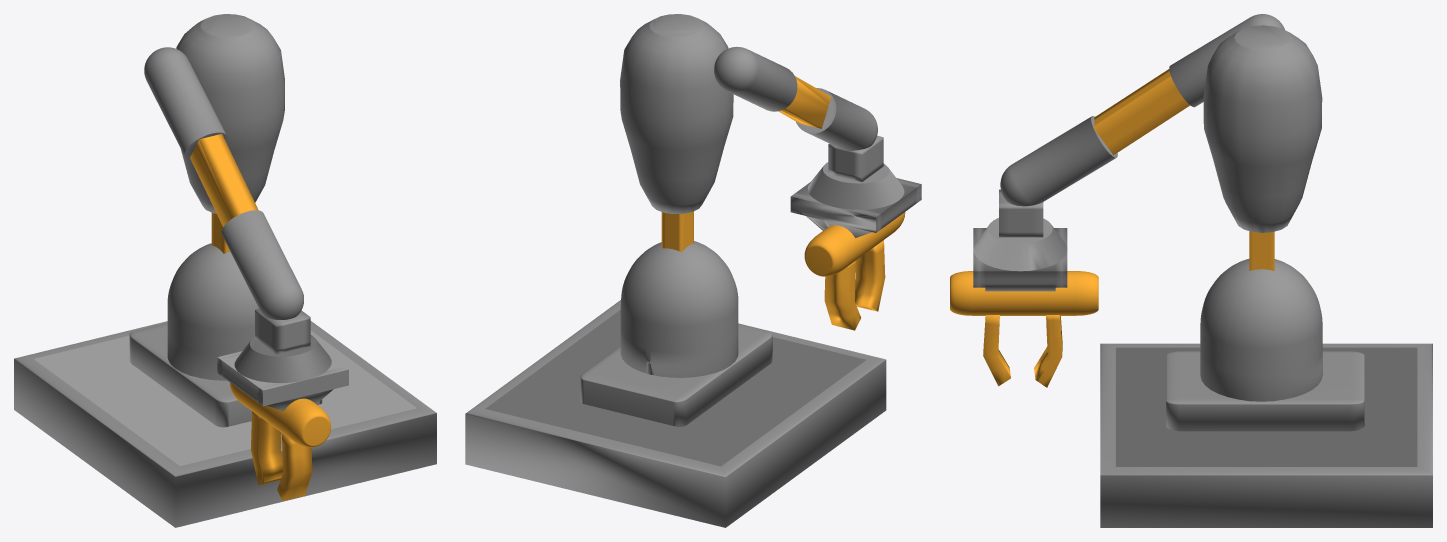
The model's file is CRANEMACHINE.fbx.
The picture shows the model from 3 angles, left to right: view 1: azimuth 30°, elevation 25°; view 2: azimuth 150°, elevation 25°; view 3: azimuth 270°, elevation 25°; orthographic projection. The views are drawn at different scales.
Visible parts, largest first — view 1: Cylinder.003; view 2: Cylinder.003; view 3: Cylinder.003.
Boxes of the visible parts, x1,y1,x2,y2 form: Cylinder.003: [14, 14, 436, 527]; Cylinder.003: [465, 14, 921, 527]; Cylinder.003: [950, 14, 1432, 527].
Size of the model in its own units: 272 by 410 by 421.
